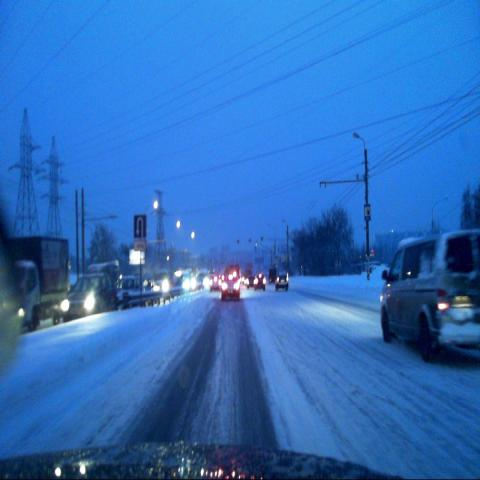6_3_1: (132, 212, 148, 239)
7_3: (364, 203, 372, 222)
8_1_1: (133, 239, 147, 253)
